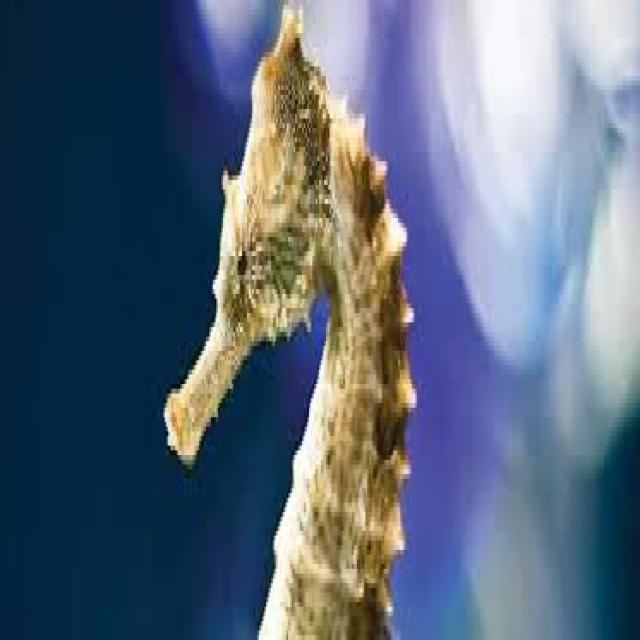seahorse: (165, 5, 415, 635)
